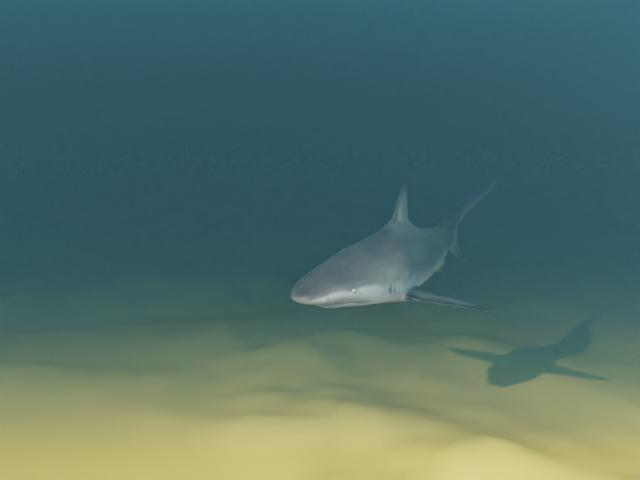Carribean Shark.001: (290, 177, 503, 311)
